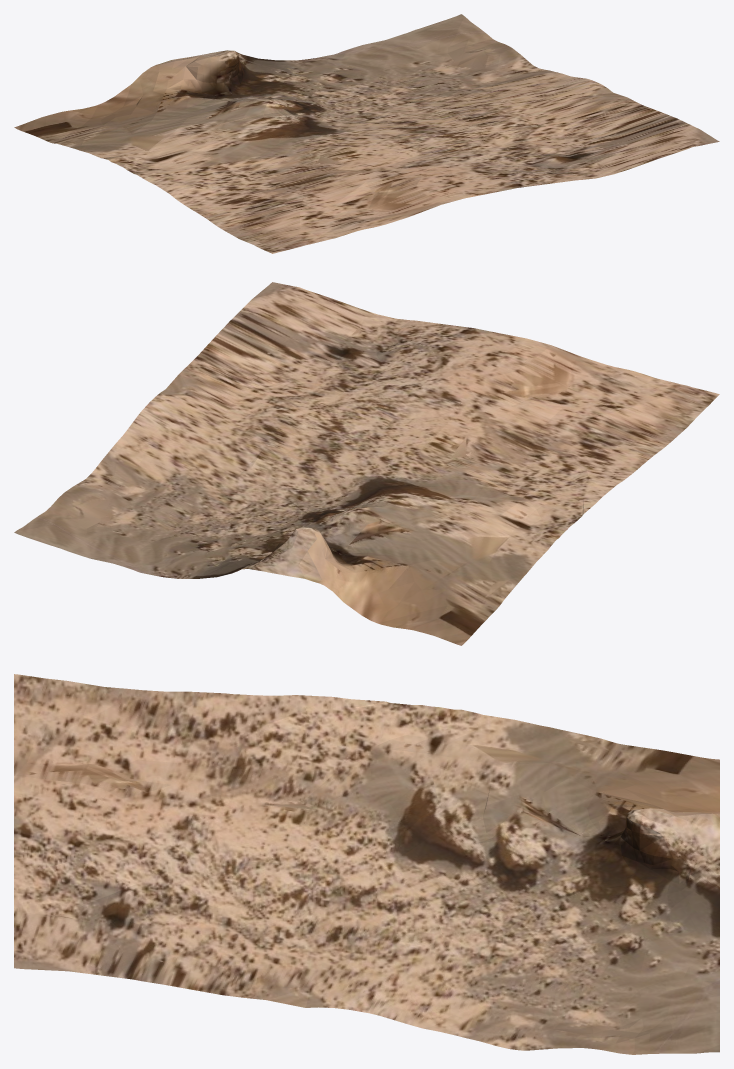
3 views of the same model, one above another, from view 1: azimuth 30°, elevation 25°; view 2: azimuth 150°, elevation 25°; view 3: azimuth 270°, elevation 25° (orthographic). The views are drawn at different scales.
Size of the model in its own units: 2.09 by 0.3406 by 2.09.
2 materials, 2 textured.
